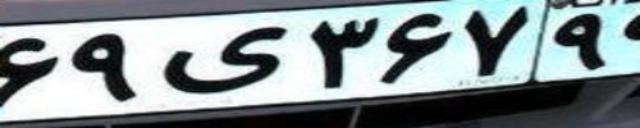3: (309, 19, 376, 91)
6: (1, 34, 60, 114), (388, 13, 451, 85)
7: (465, 5, 529, 80)
9: (71, 32, 136, 102), (550, 12, 604, 73)
ye: (161, 25, 287, 93)
